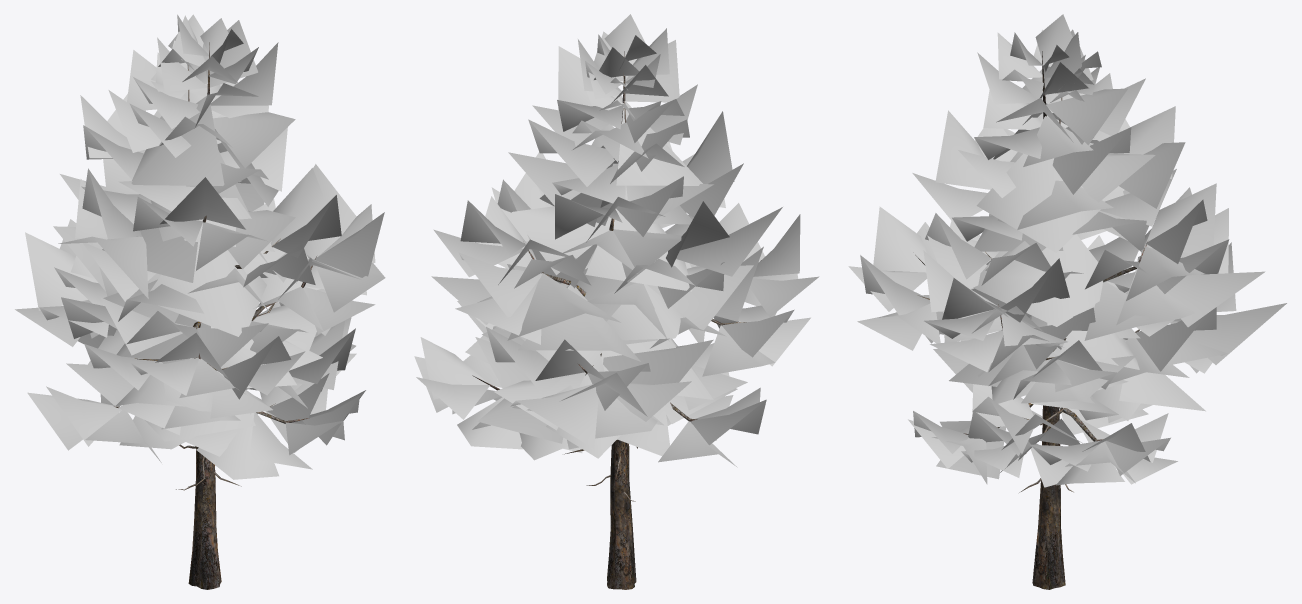
File: tree_1.fbx
3 renders of one model, left to right at view 1: azimuth 30°, elevation 25°; view 2: azimuth 150°, elevation 25°; view 3: azimuth 270°, elevation 25°, orthographic.
Parts seen in each view (by area): view 1: methyl_tree03; view 2: methyl_tree03; view 3: methyl_tree03.
Boxes of the visible parts, <box> form: methyl_tree03: <box>15,14,385,589</box>; methyl_tree03: <box>414,14,819,589</box>; methyl_tree03: <box>848,14,1286,589</box>.
Bounding box in the file's own units: 785 × 1278 × 911.
